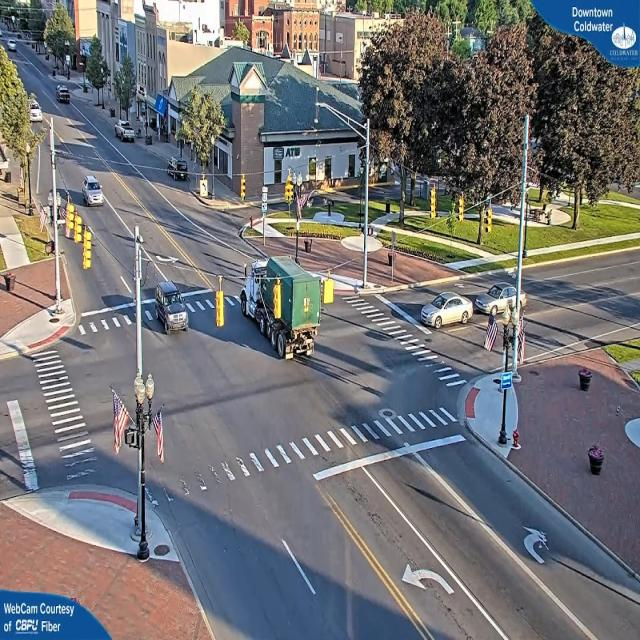car: (420, 290, 472, 330), (476, 280, 526, 317), (150, 292, 190, 334), (82, 177, 106, 208), (164, 158, 189, 180), (116, 123, 136, 142)
truck: (242, 260, 325, 358)
